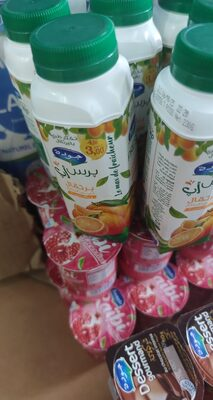press up jaouda petit orange: (11, 20, 202, 380)
